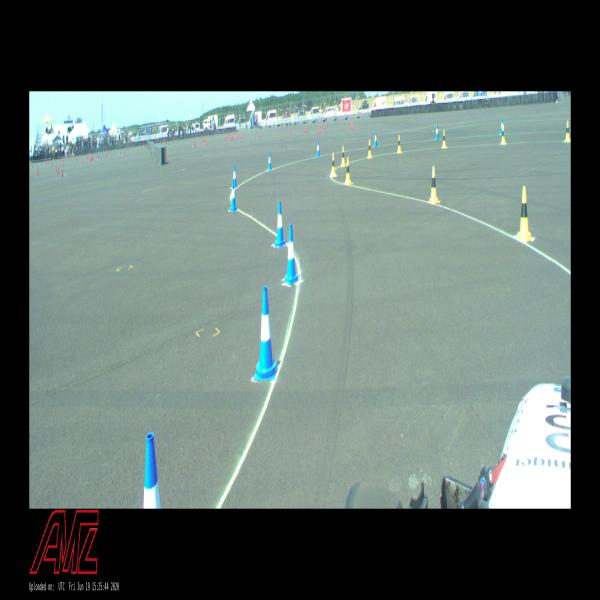blue_cone: (254, 286, 277, 380), (143, 433, 161, 509), (285, 224, 299, 284), (274, 201, 285, 246), (230, 181, 237, 210), (233, 165, 237, 187), (268, 152, 272, 170), (435, 124, 439, 140), (374, 132, 378, 146), (500, 118, 503, 134), (317, 141, 320, 156)
yellow_cone: (517, 187, 532, 240), (429, 166, 438, 202), (345, 157, 351, 184), (564, 120, 570, 142), (331, 153, 336, 176), (501, 125, 506, 144), (367, 140, 372, 158), (341, 146, 345, 167), (442, 130, 446, 148), (397, 135, 401, 153), (55, 165, 56, 170)
